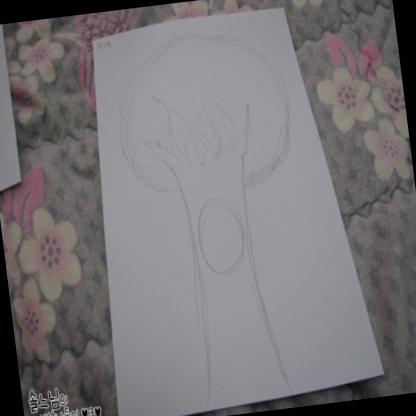branch_sharp: (135, 78, 260, 177)
crown_mushroom: (106, 23, 300, 199)
trunk_reflex: (176, 196, 278, 350)
trunk_straight: (176, 189, 282, 364)
